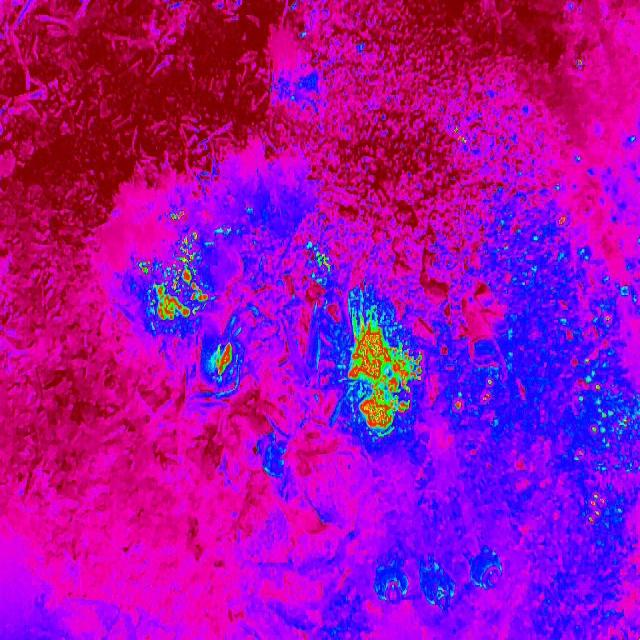fire: (527, 210, 640, 529), (344, 312, 422, 432), (140, 231, 208, 324), (448, 373, 495, 417), (208, 341, 234, 378), (310, 248, 332, 272), (450, 124, 468, 148), (170, 208, 186, 222)
